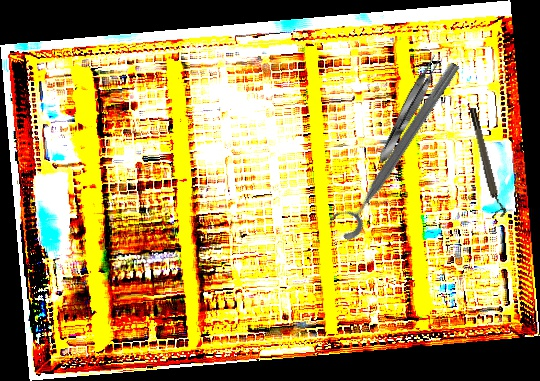Fixation Ring: (324, 52, 466, 244), (467, 105, 508, 220)
Tissue Forceps: (373, 51, 445, 167)
